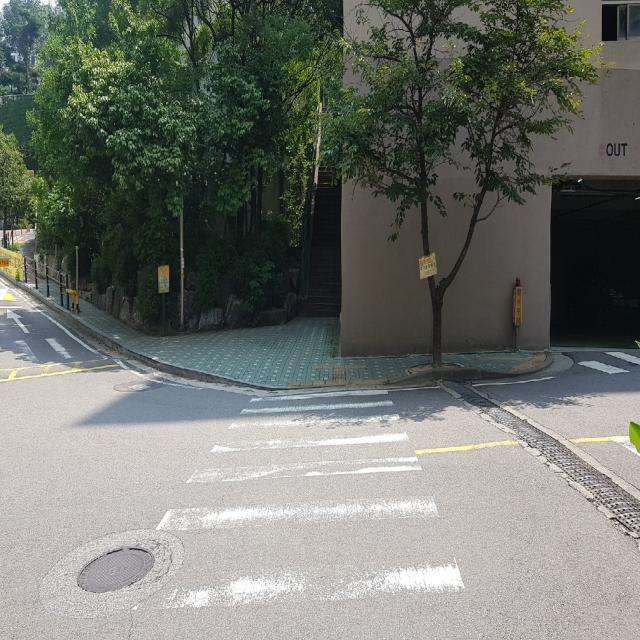횡단보도: (132, 390, 466, 610)
